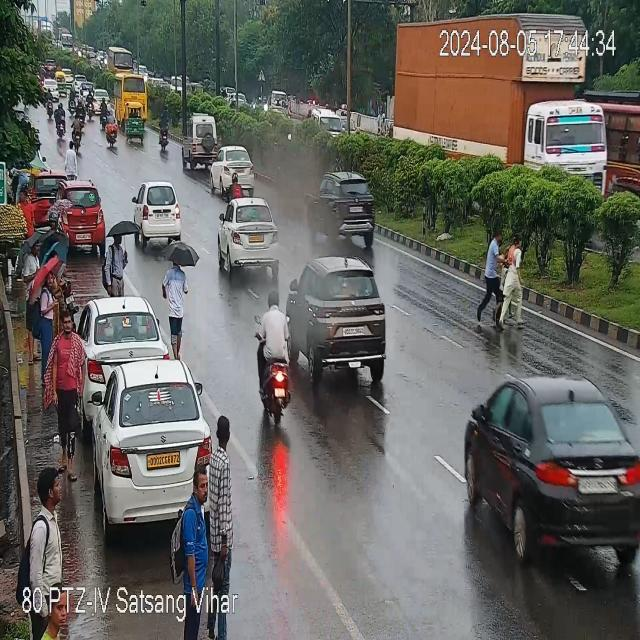2-wheelers: (257, 286, 291, 432), (69, 70, 107, 120), (60, 68, 92, 120), (104, 111, 123, 147), (158, 106, 170, 152), (55, 103, 67, 136), (45, 88, 53, 117), (73, 115, 80, 148)
auto: (184, 116, 220, 172), (189, 116, 220, 145), (124, 104, 146, 142)
bus: (114, 69, 154, 131)
car: (465, 371, 640, 562), (90, 355, 214, 524), (292, 252, 398, 385), (85, 294, 172, 362), (33, 176, 105, 252), (220, 202, 285, 286), (307, 172, 380, 246), (132, 180, 184, 238), (207, 144, 255, 191)
pedestrian: (213, 409, 240, 633), (30, 471, 60, 637), (476, 232, 522, 326), (180, 459, 205, 625), (54, 313, 78, 483), (162, 244, 192, 355), (26, 240, 38, 366), (41, 272, 54, 386), (106, 233, 126, 292), (21, 188, 35, 222), (66, 140, 77, 176)
truck: (391, 4, 610, 177)
